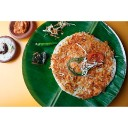dosa: (51, 29, 117, 98)
